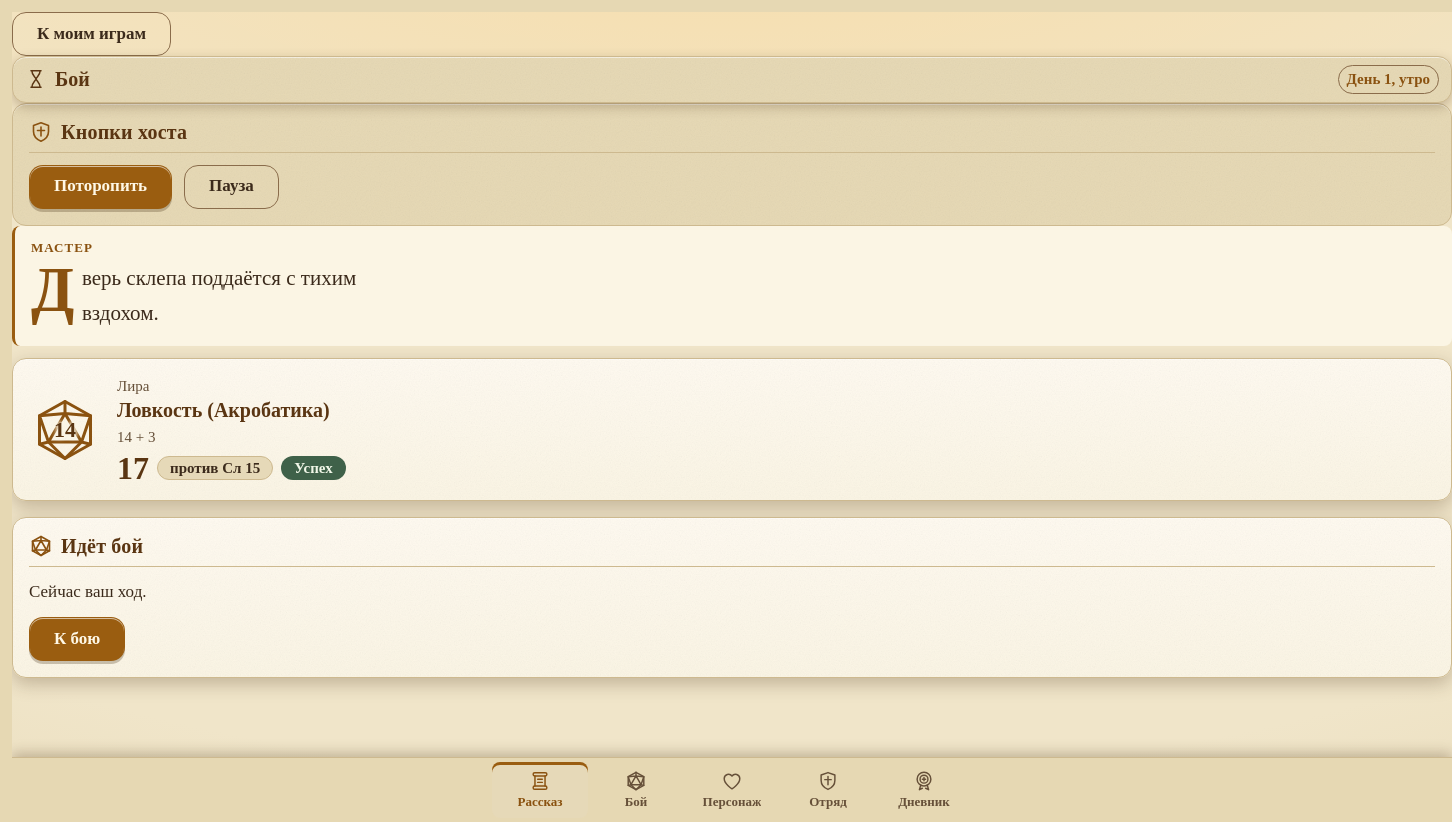
Scenario: обрыв связи на экране игры › плашка есть и на вкладке «Бой», в той же строке статуса
Step 1. Click the tab "Бой" → (636, 790), box x1=588 y1=762 x2=684 y2=818
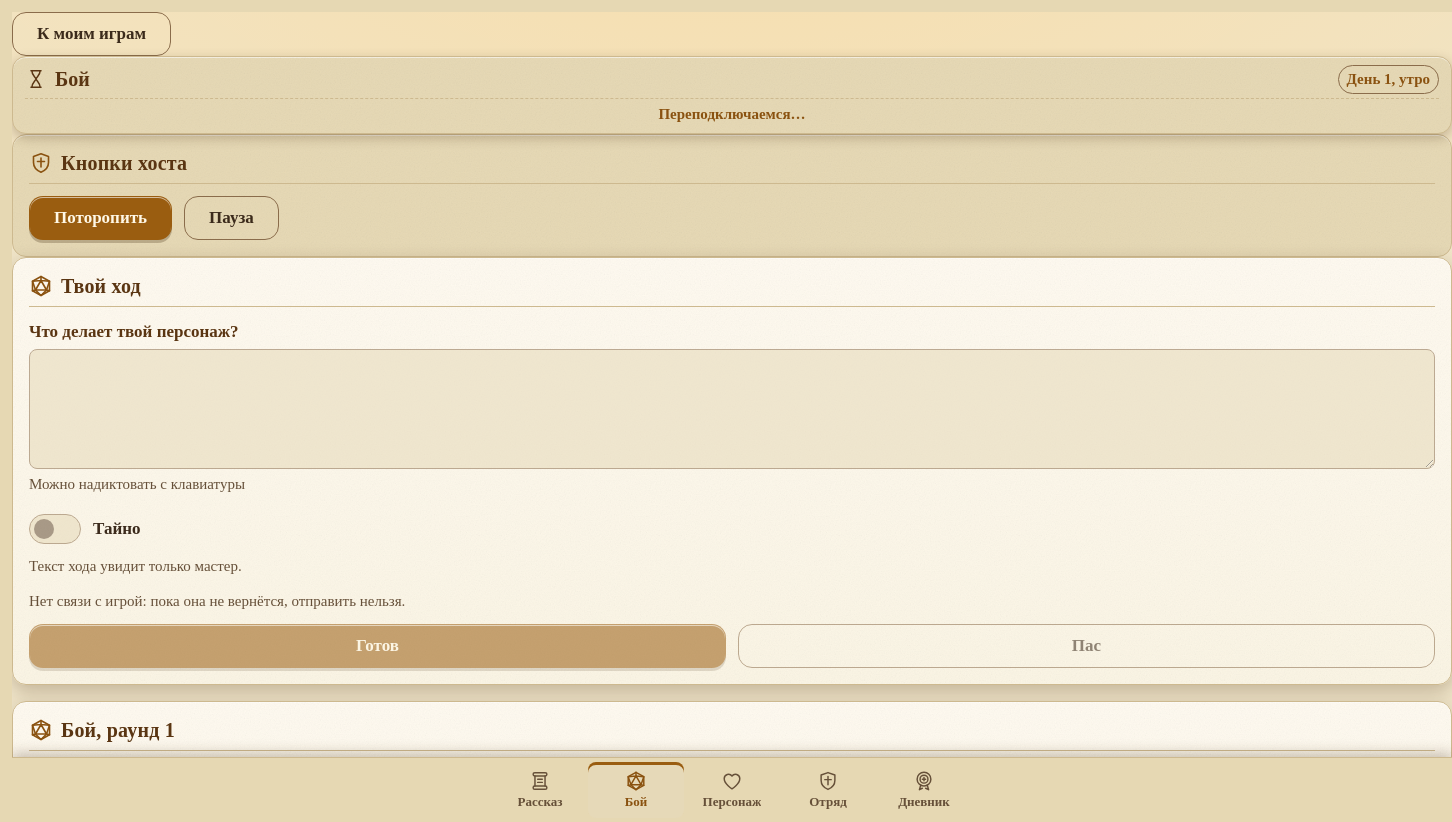
Expected: the element showing "Бой День 1, утро Переподключаемся…" is shown, x1=12 y1=56 x2=1451 y2=134
Expected: the text "Переподключаемся…" is shown, x1=25 y1=98 x2=1439 y2=125
